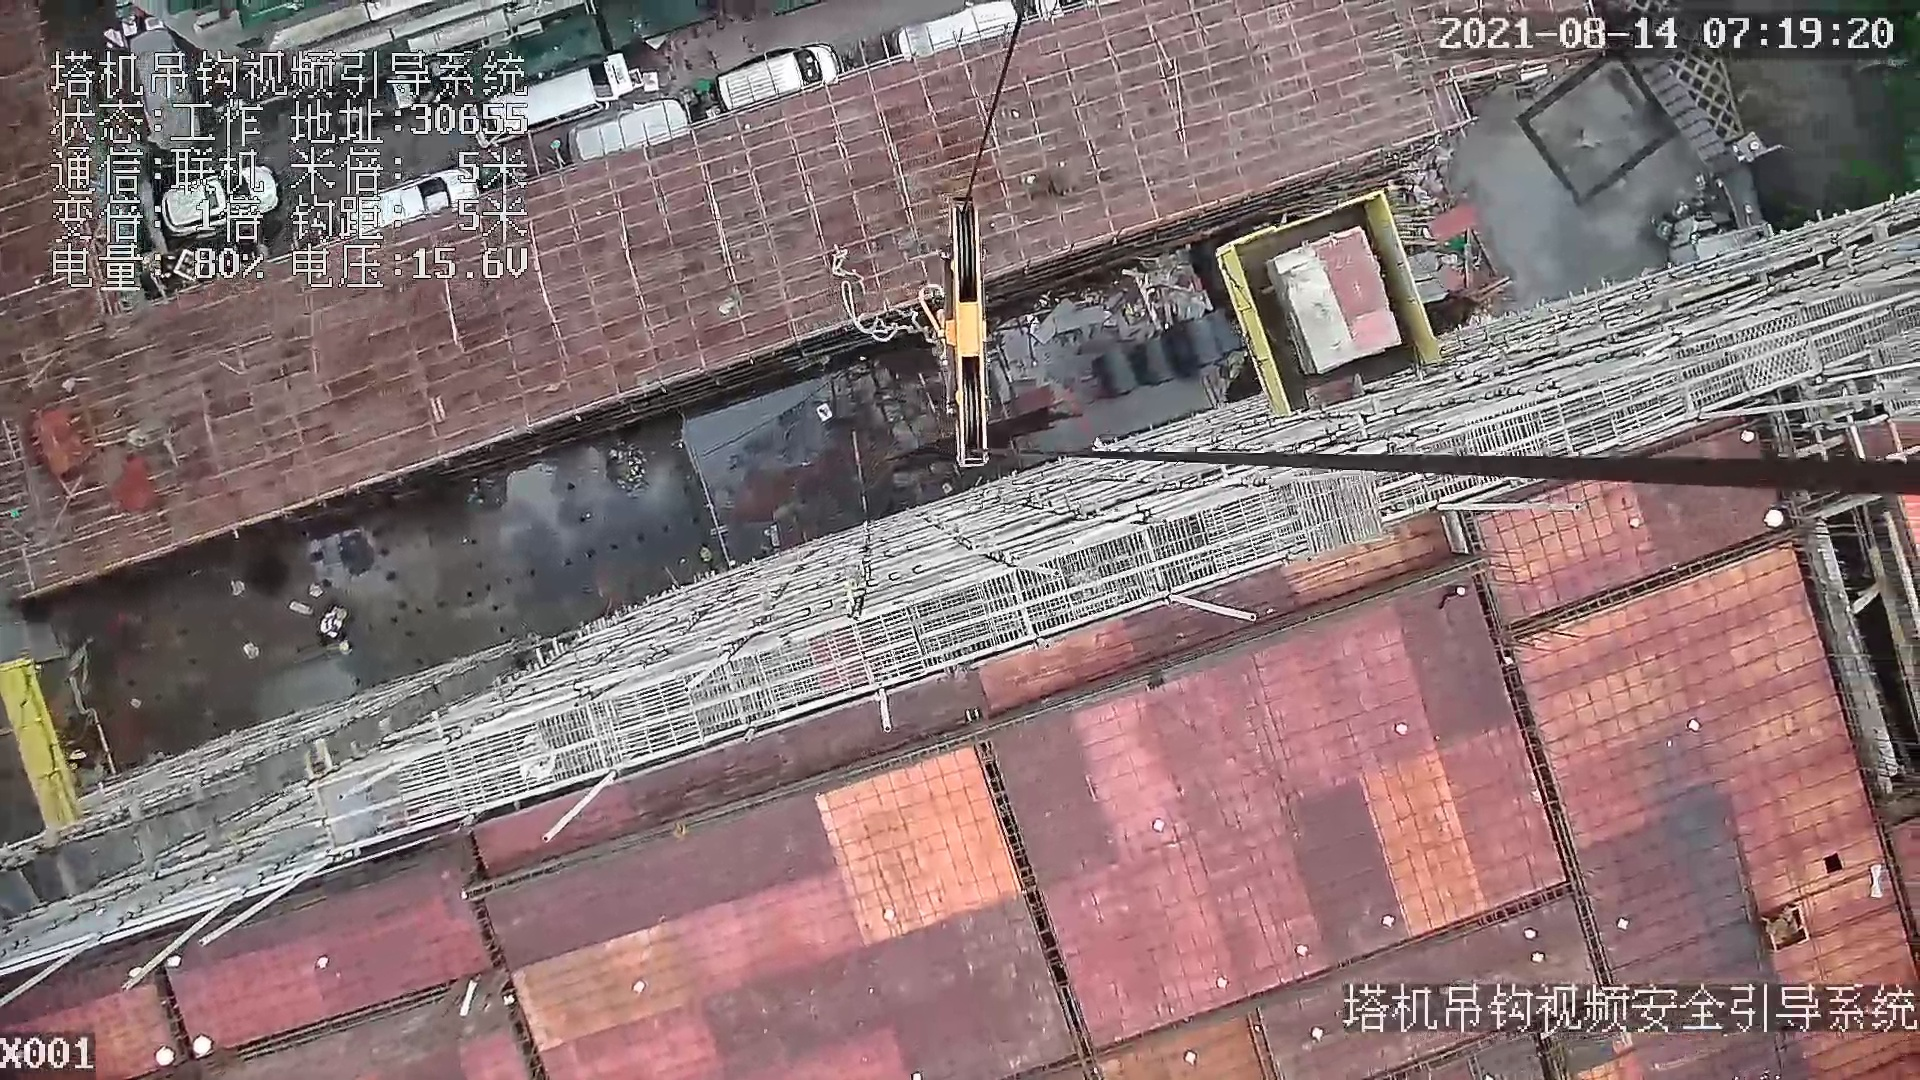hook: (914, 190, 1001, 476)
